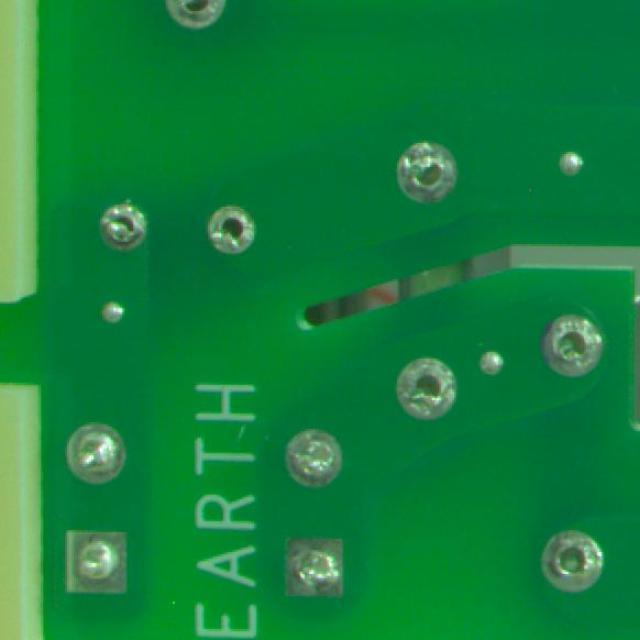Insufficient solder: (273, 514, 362, 624), (372, 126, 471, 219), (54, 517, 141, 615), (57, 186, 155, 265), (384, 344, 464, 433), (254, 420, 363, 483), (58, 409, 134, 498), (536, 313, 620, 387), (189, 202, 263, 270), (538, 524, 610, 592), (163, 0, 226, 38)
